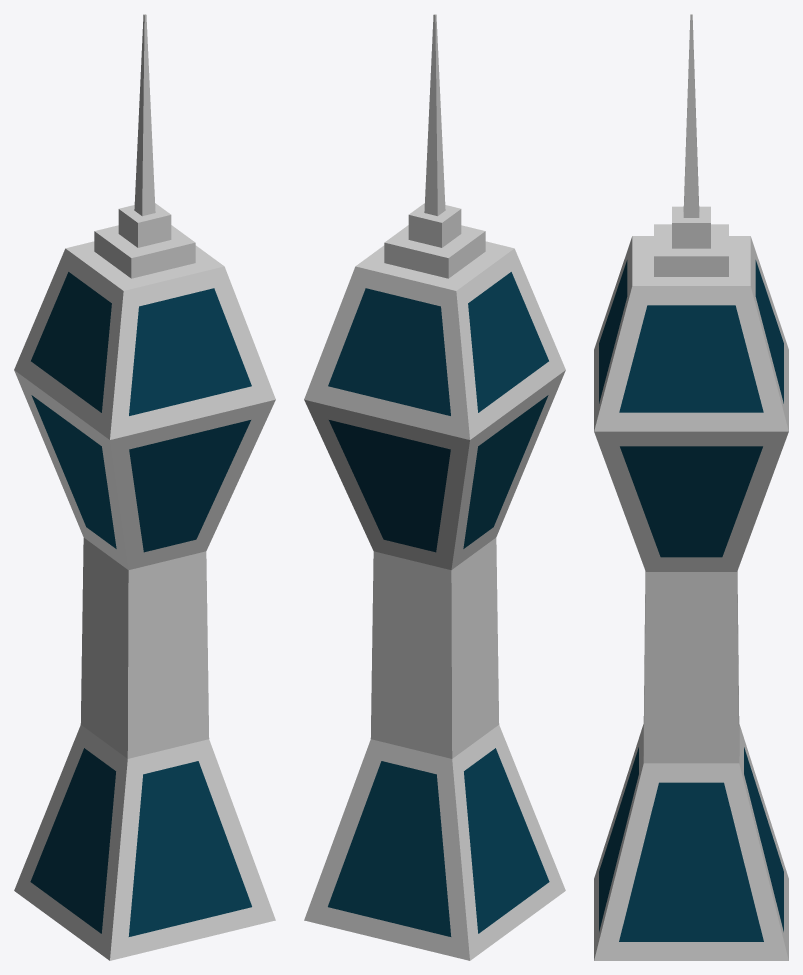
The model's file is SM_Building_04.fbx.
3 renders of one model, left to right at view 1: azimuth 30°, elevation 25°; view 2: azimuth 150°, elevation 25°; view 3: azimuth 270°, elevation 25°, orthographic.
Parts seen in each view (by area): view 1: SM_Building_04; view 2: SM_Building_04; view 3: SM_Building_04.
Boxes of the visible parts, left/top/right/bottom form: SM_Building_04: left=14, top=14, right=275, bottom=960; SM_Building_04: left=304, top=14, right=565, bottom=960; SM_Building_04: left=594, top=14, right=788, bottom=960.
Size of the model in its own units: 751 by 3853 by 751.
